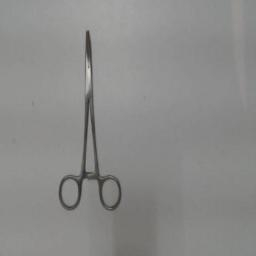Crile Artery Forceps: (54, 27, 126, 219)
